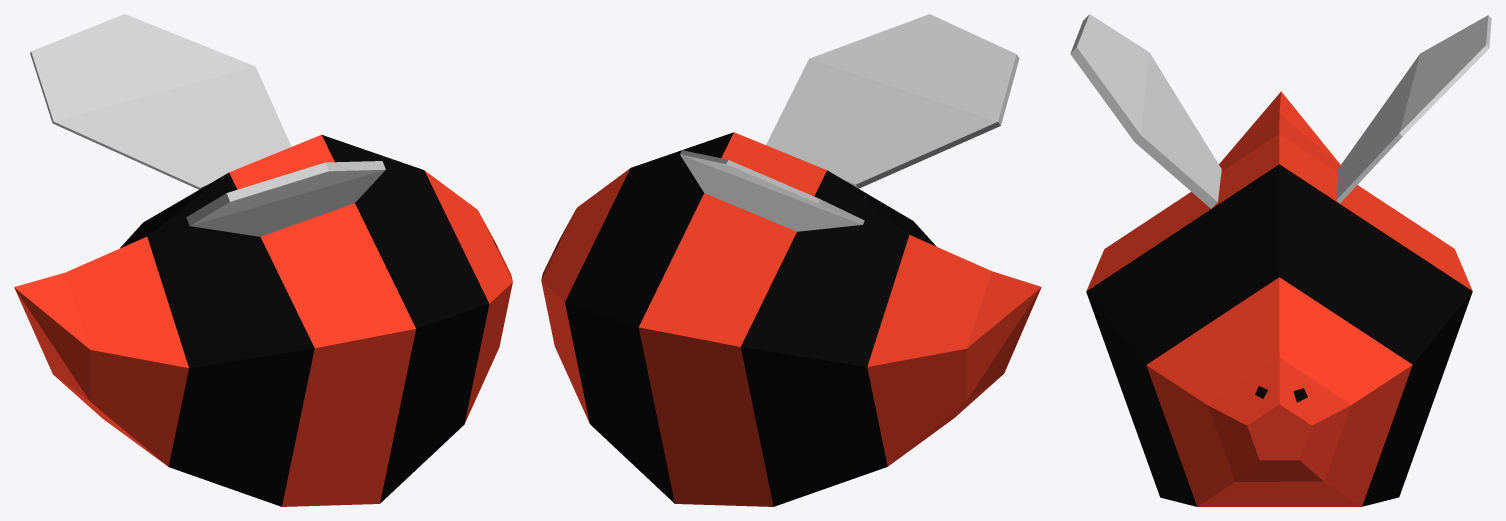
The model's file is RedBee.fbx.
3 views of the same model, side by side, from view 1: azimuth 30°, elevation 25°; view 2: azimuth 150°, elevation 25°; view 3: azimuth 270°, elevation 25° (orthographic). The views are drawn at different scales.
Parts seen in each view (by area): view 1: Cylinder; view 2: Cylinder; view 3: Cylinder.
Part boxes in pixels (x1=…): Cylinder: x1=14, y1=14, x2=512, y2=506; Cylinder: x1=541, y1=14, x2=1041, y2=506; Cylinder: x1=1070, y1=14, x2=1491, y2=506.
Size of the model in its own units: 279 by 207 by 220.
1 material, 1 textured.
